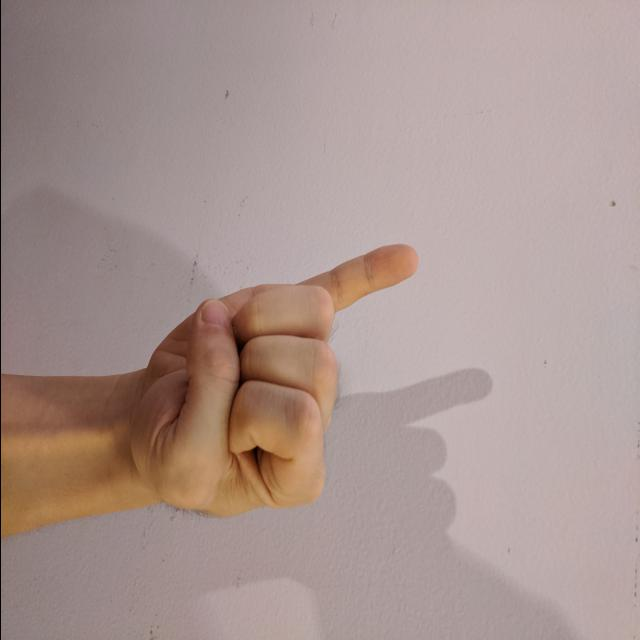I: (128, 238, 422, 524)
